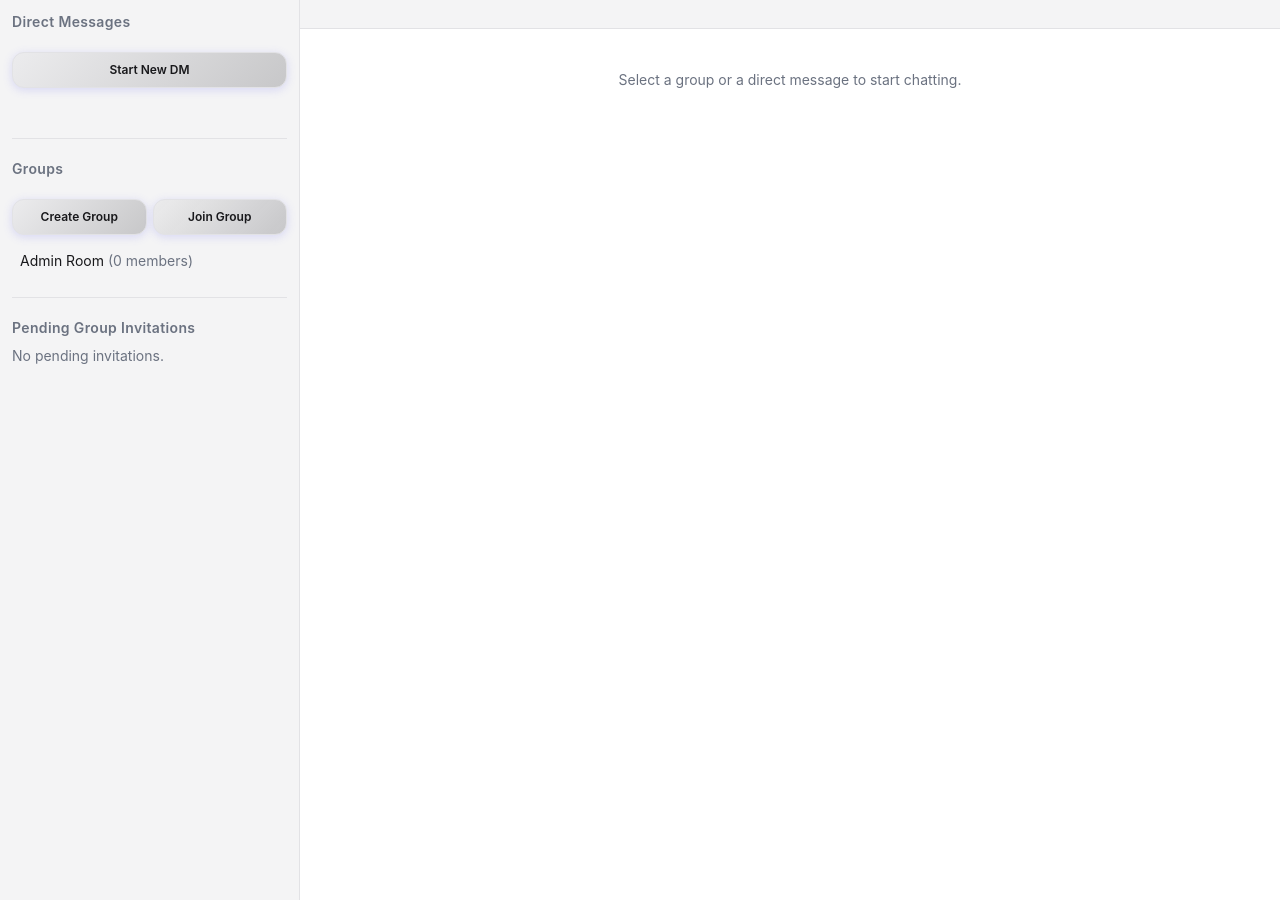
Test: Private Spaces (SCRUM-35 network wiring) › PrivateSpacesPage › removes a deleted group from the sidebar immediately, without a manual refresh
The image size is (1280, 900).
Click the text "Admin Room". click: [62, 260]
box: [20,252,104,269]
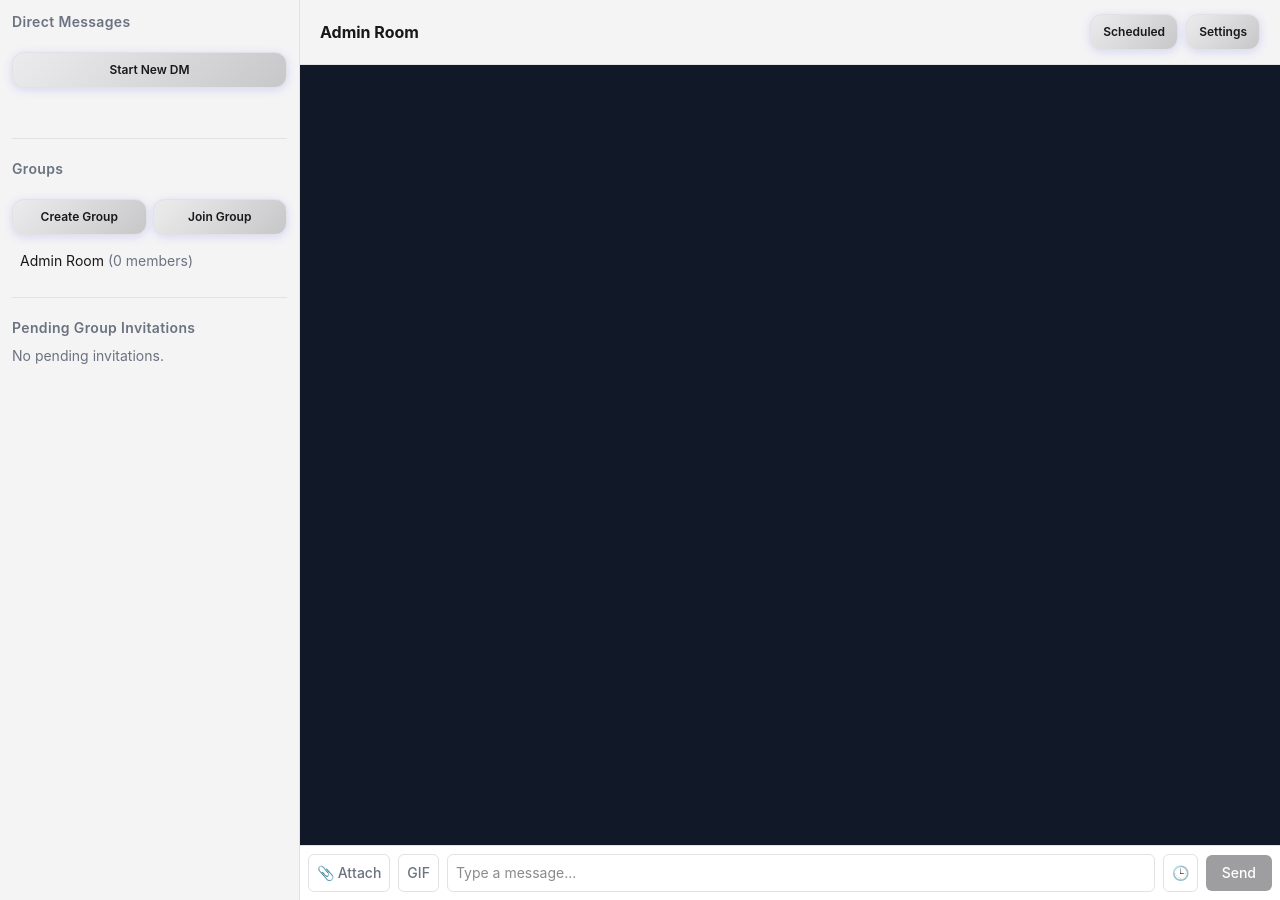
Click the button "Settings". click: [1223, 32]
box: [1186,14,1260,50]
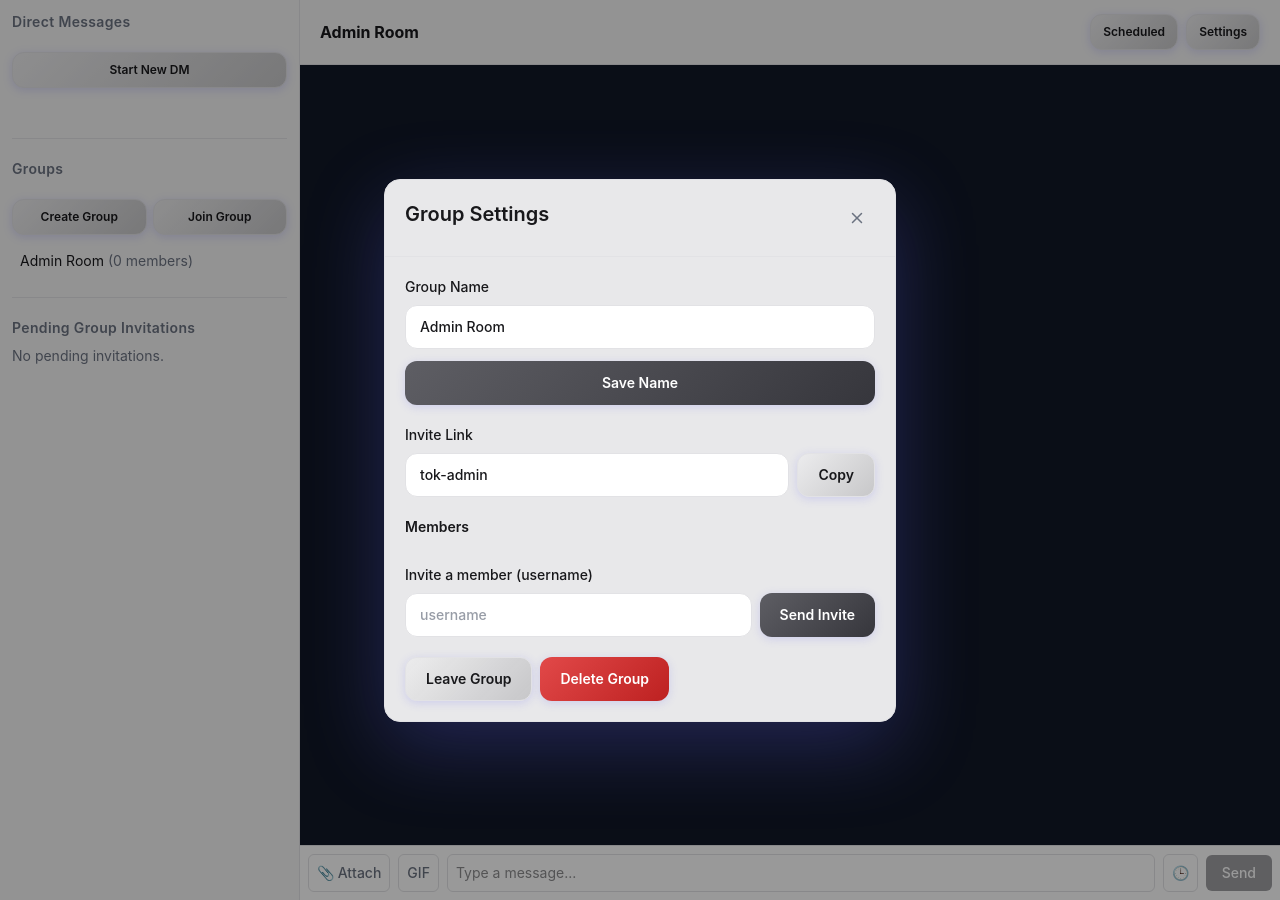
Click the button "Delete Group". click: [605, 678]
box: [540,656,669,700]
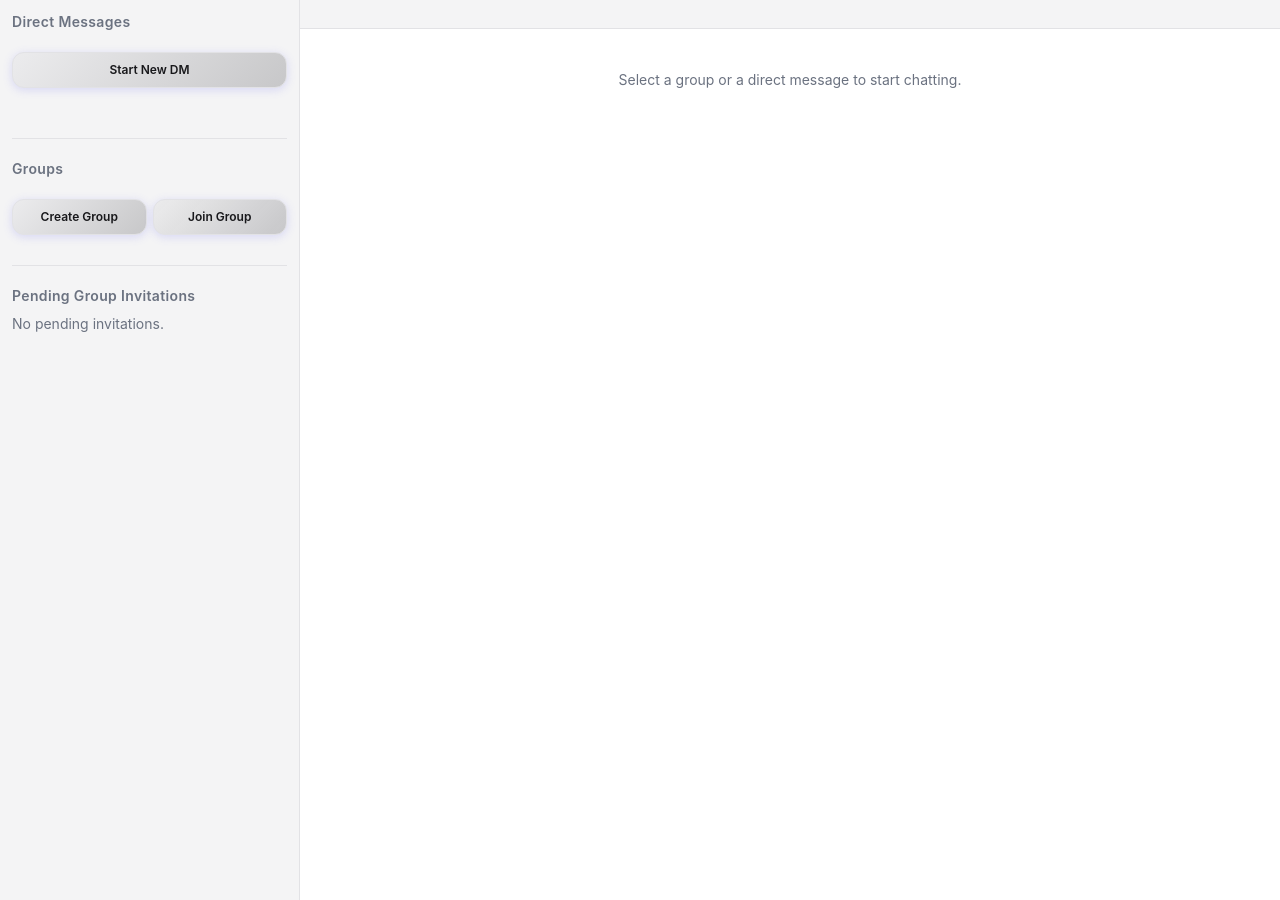
Expected: the text "Admin Room" is gone
